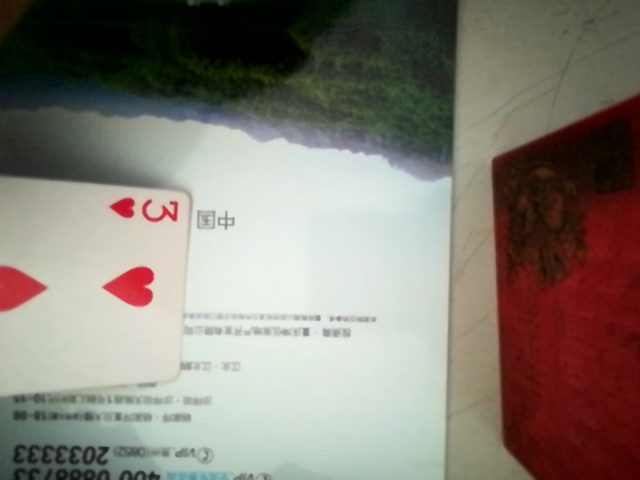hx 3: (0, 171, 196, 398)
